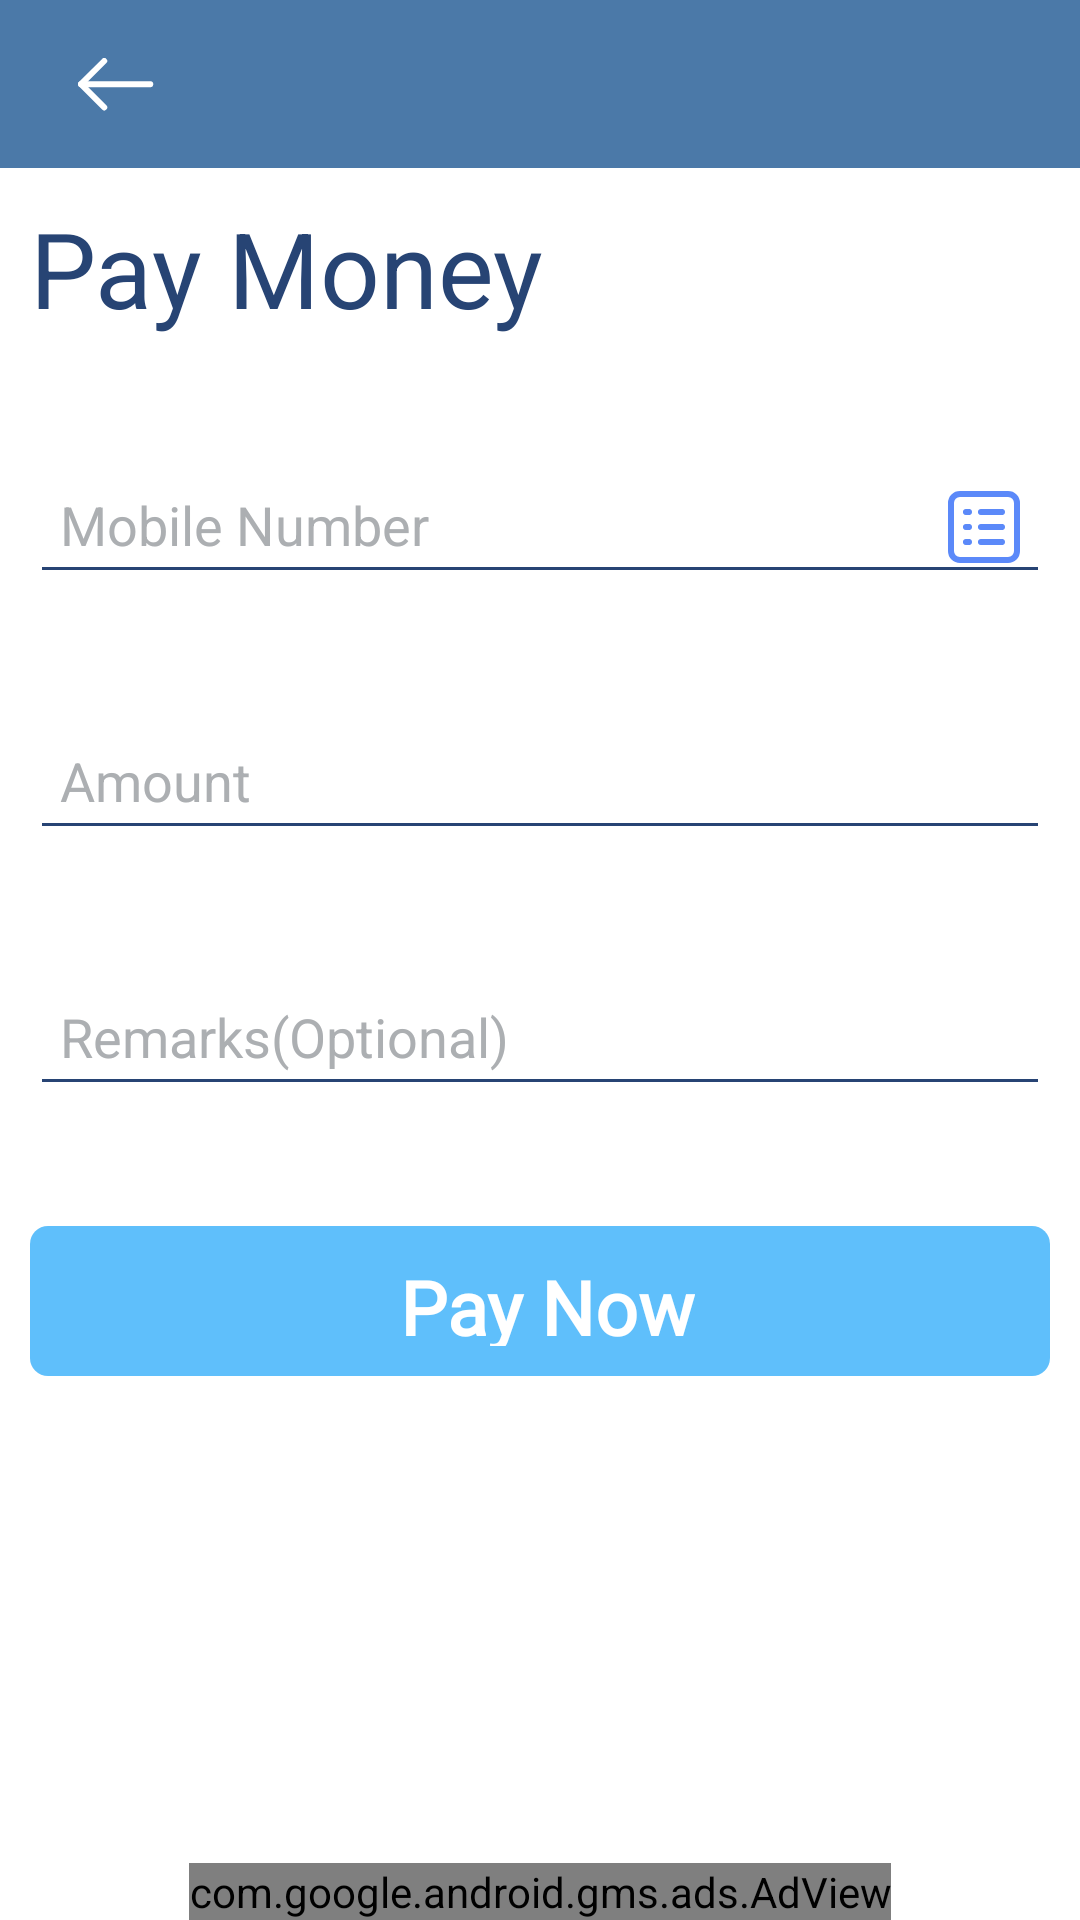

Locate icon controls on the screen. Image size 1080x1920, boxes as (x1=x1, y1=y1, x2=x2, y2=y2).
back: (x1=78, y1=58, x2=154, y2=111)
